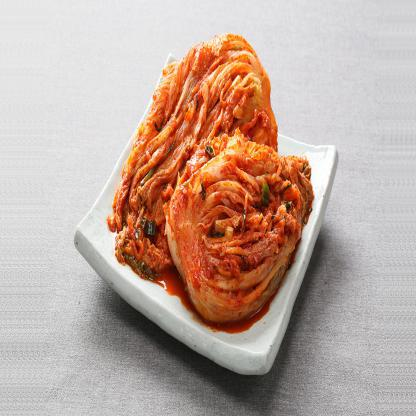kimchi: (101, 44, 283, 260), (158, 139, 322, 333)
